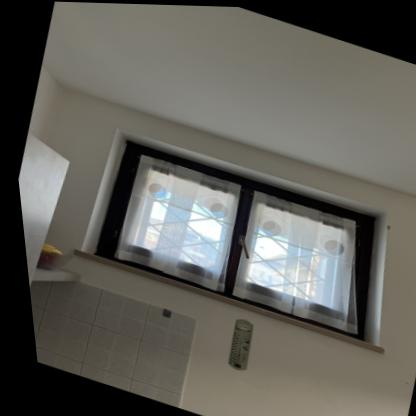Window: (84, 135, 388, 336)
